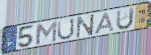5: (17, 23, 37, 49)
A: (93, 12, 115, 36)
M: (35, 20, 59, 46)
N: (75, 13, 96, 39)
U: (115, 6, 135, 31), (57, 17, 76, 41)
